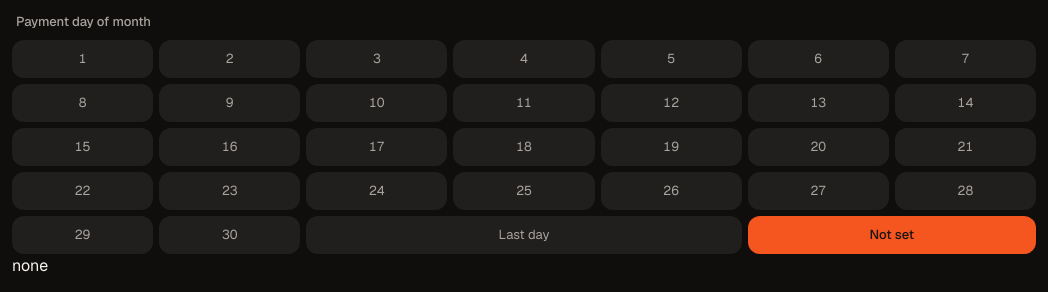
Test case: DayOfMonthPicker › can be set and then put back to Not set
Click the radio button labelled "26" at (671, 190), box [601,172,742,210]
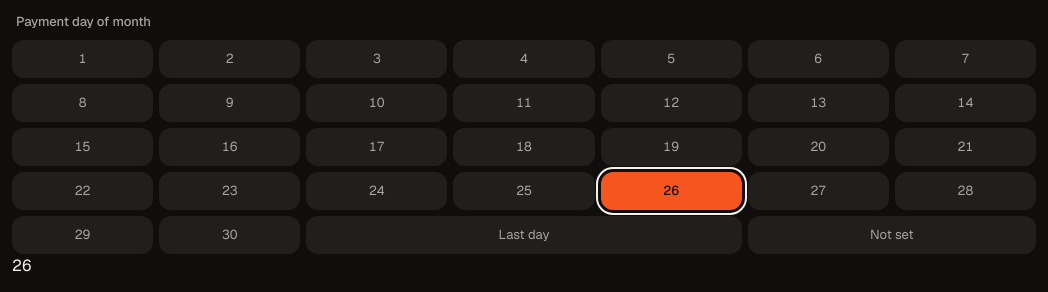
Click the radio button labelled "Not set" at (892, 234), box [748,216,1036,254]
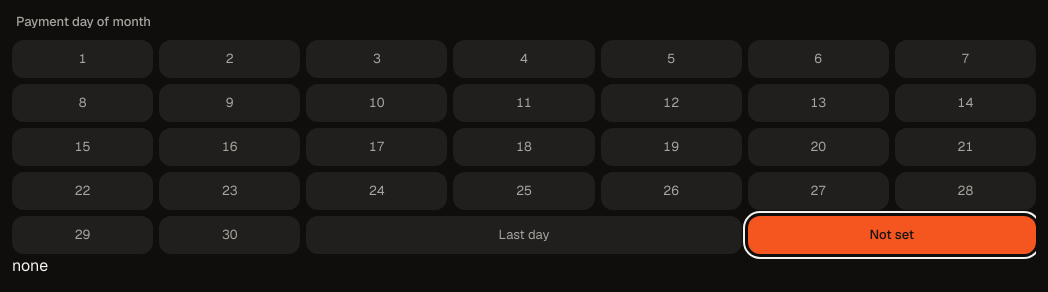
Now the text with test id "value" reads "none", box [12,254,48,276]
